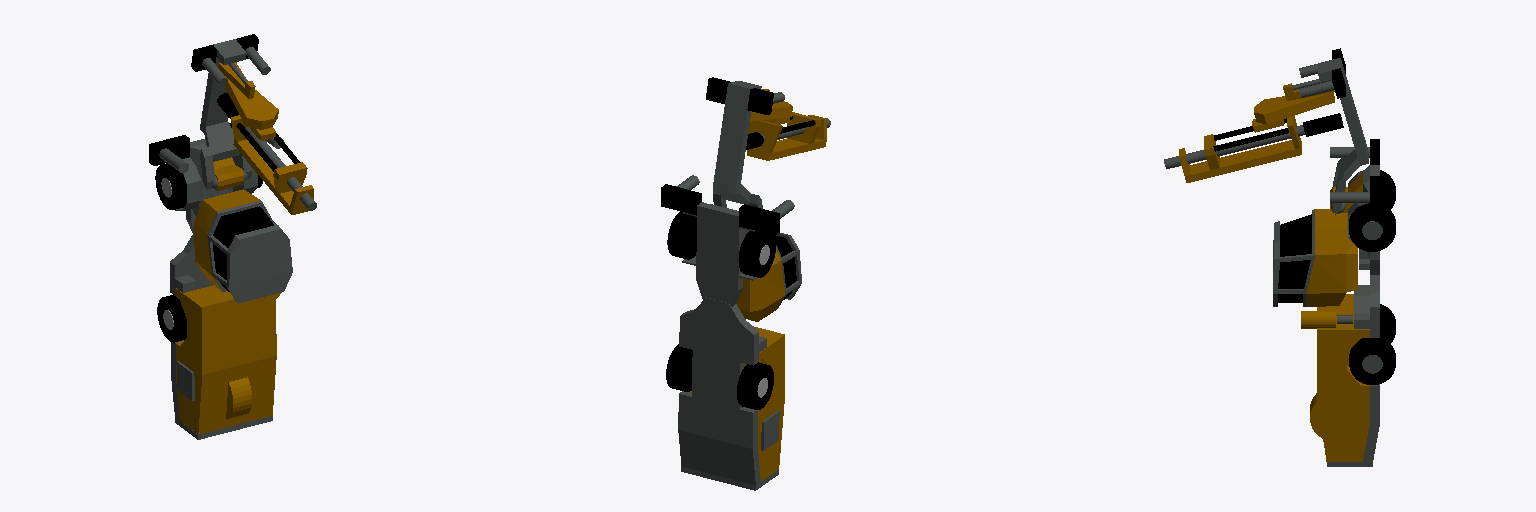
Rendered from sbu(ver).obj.
3 views of the same model, side by side, from view 1: azimuth 30°, elevation 25°; view 2: azimuth 150°, elevation 25°; view 3: azimuth 270°, elevation 25° (orthographic).
Visible parts, largest first — view 1: Shape_IndexedFaceSet.022_Shape_IndexedFaceSet.386_Shape.17, Shape_IndexedFaceSet.007_Shape_IndexedFaceSet.371_Shape.28, Shape_IndexedFaceSet.001_Shape_IndexedFaceSet.365_Shape5, Shape_IndexedFaceSet.031_Shape_IndexedFaceSet.395_Shape.030, Shape_IndexedFaceSet.021_Shape_IndexedFaceSet.385_Shape3, Shape_IndexedFaceSet.009_Shape_IndexedFaceSet.373_Shape.26, Shape_IndexedFaceSet.006_Shape_IndexedFaceSet.370_Shape.29, Shape_IndexedFaceSet.008_Shape_IndexedFaceSet.372_Shape.27, Shape_IndexedFaceSet.025_Shape_IndexedFaceSet.389_Shape.027, Shape_IndexedFaceSet.019_Shape_IndexedFaceSet.383_Shape.010, Shape_IndexedFaceSet.015_Shape_IndexedFaceSet.379_Shape.20, Shape_IndexedFaceSet.023_Shape_IndexedFaceSet.387_Shape.017 (+5 smaller); view 2: Shape_IndexedFaceSet.021_Shape_IndexedFaceSet.385_Shape3, Shape_IndexedFaceSet.009_Shape_IndexedFaceSet.373_Shape.26, Shape_IndexedFaceSet.001_Shape_IndexedFaceSet.365_Shape5, Shape_IndexedFaceSet.022_Shape_IndexedFaceSet.386_Shape.17, Shape_IndexedFaceSet.031_Shape_IndexedFaceSet.395_Shape.030, Shape_IndexedFaceSet.006_Shape_IndexedFaceSet.370_Shape.29, Shape_IndexedFaceSet.011_Shape_IndexedFaceSet.375_Shape.24, Shape_IndexedFaceSet.015_Shape_IndexedFaceSet.379_Shape.20, Shape_IndexedFaceSet.019_Shape_IndexedFaceSet.383_Shape.010, Shape_IndexedFaceSet.017_Shape_IndexedFaceSet.381_Shape.18, Shape_IndexedFaceSet.002_Shape_IndexedFaceSet.366_Shape.32, Shape_IndexedFaceSet.012_Shape_IndexedFaceSet.376_Shape.23 (+3 smaller); view 3: Shape_IndexedFaceSet.022_Shape_IndexedFaceSet.386_Shape.17, Shape_IndexedFaceSet.006_Shape_IndexedFaceSet.370_Shape.29, Shape_IndexedFaceSet.031_Shape_IndexedFaceSet.395_Shape.030, Shape_IndexedFaceSet.021_Shape_IndexedFaceSet.385_Shape3, Shape_IndexedFaceSet.008_Shape_IndexedFaceSet.372_Shape.27, Shape_IndexedFaceSet.001_Shape_IndexedFaceSet.365_Shape5, Shape_IndexedFaceSet.012_Shape_IndexedFaceSet.376_Shape.23, Shape_IndexedFaceSet.017_Shape_IndexedFaceSet.381_Shape.18, Shape_IndexedFaceSet.025_Shape_IndexedFaceSet.389_Shape.027, Shape_IndexedFaceSet.007_Shape_IndexedFaceSet.371_Shape.28, Shape_IndexedFaceSet.009_Shape_IndexedFaceSet.373_Shape.26, Shape_IndexedFaceSet.028_Shape_IndexedFaceSet.392_Shape.029 (+3 smaller).
Part boxes in pixels (x1,y1,x2,y2): Shape_IndexedFaceSet.022_Shape_IndexedFaceSet.386_Shape.17: (175, 285, 276, 434); Shape_IndexedFaceSet.007_Shape_IndexedFaceSet.371_Shape.28: (207, 200, 292, 303); Shape_IndexedFaceSet.001_Shape_IndexedFaceSet.365_Shape5: (200, 39, 251, 189); Shape_IndexedFaceSet.031_Shape_IndexedFaceSet.395_Shape.030: (231, 115, 313, 214); Shape_IndexedFaceSet.021_Shape_IndexedFaceSet.385_Shape3: (170, 235, 272, 439); Shape_IndexedFaceSet.009_Shape_IndexedFaceSet.373_Shape.26: (175, 139, 257, 234); Shape_IndexedFaceSet.006_Shape_IndexedFaceSet.370_Shape.29: (194, 189, 259, 289); Shape_IndexedFaceSet.008_Shape_IndexedFaceSet.372_Shape.27: (213, 206, 273, 291); Shape_IndexedFaceSet.025_Shape_IndexedFaceSet.389_Shape.027: (224, 75, 278, 129); Shape_IndexedFaceSet.019_Shape_IndexedFaceSet.383_Shape.010: (155, 163, 186, 209); Shape_IndexedFaceSet.015_Shape_IndexedFaceSet.379_Shape.20: (157, 295, 186, 342); Shape_IndexedFaceSet.023_Shape_IndexedFaceSet.387_Shape.017: (226, 377, 251, 419); Shape_IndexedFaceSet.021_Shape_IndexedFaceSet.385_Shape3: (678, 297, 778, 490); Shape_IndexedFaceSet.009_Shape_IndexedFaceSet.373_Shape.26: (682, 202, 756, 306); Shape_IndexedFaceSet.001_Shape_IndexedFaceSet.365_Shape5: (713, 81, 762, 208); Shape_IndexedFaceSet.022_Shape_IndexedFaceSet.386_Shape.17: (690, 326, 784, 480); Shape_IndexedFaceSet.031_Shape_IndexedFaceSet.395_Shape.030: (747, 112, 826, 160); Shape_IndexedFaceSet.006_Shape_IndexedFaceSet.370_Shape.29: (736, 249, 785, 321); Shape_IndexedFaceSet.011_Shape_IndexedFaceSet.375_Shape.24: (661, 184, 779, 235); Shape_IndexedFaceSet.015_Shape_IndexedFaceSet.379_Shape.20: (737, 362, 773, 409); Shape_IndexedFaceSet.019_Shape_IndexedFaceSet.383_Shape.010: (738, 231, 775, 277); Shape_IndexedFaceSet.017_Shape_IndexedFaceSet.381_Shape.18: (667, 211, 696, 259); Shape_IndexedFaceSet.002_Shape_IndexedFaceSet.366_Shape.32: (706, 77, 773, 114); Shape_IndexedFaceSet.012_Shape_IndexedFaceSet.376_Shape.23: (666, 344, 692, 391); Shape_IndexedFaceSet.022_Shape_IndexedFaceSet.386_Shape.17: (1317, 294, 1369, 461); Shape_IndexedFaceSet.006_Shape_IndexedFaceSet.370_Shape.29: (1306, 209, 1357, 306); Shape_IndexedFaceSet.031_Shape_IndexedFaceSet.395_Shape.030: (1179, 116, 1301, 182); Shape_IndexedFaceSet.021_Shape_IndexedFaceSet.385_Shape3: (1327, 275, 1379, 466); Shape_IndexedFaceSet.008_Shape_IndexedFaceSet.372_Shape.27: (1278, 214, 1311, 302); Shape_IndexedFaceSet.001_Shape_IndexedFaceSet.365_Shape5: (1318, 58, 1368, 214); Shape_IndexedFaceSet.012_Shape_IndexedFaceSet.376_Shape.23: (1349, 337, 1395, 384); Shape_IndexedFaceSet.017_Shape_IndexedFaceSet.381_Shape.18: (1349, 203, 1395, 251); Shape_IndexedFaceSet.025_Shape_IndexedFaceSet.389_Shape.027: (1254, 92, 1334, 124); Shape_IndexedFaceSet.007_Shape_IndexedFaceSet.371_Shape.28: (1273, 209, 1314, 306); Shape_IndexedFaceSet.009_Shape_IndexedFaceSet.373_Shape.26: (1348, 165, 1379, 274); Shape_IndexedFaceSet.028_Shape_IndexedFaceSet.392_Shape.029: (1164, 125, 1304, 168).
Size of the model in its own units: 4.49 by 14.43 by 7.87.